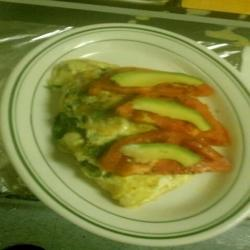omelette: (48, 61, 169, 206)
